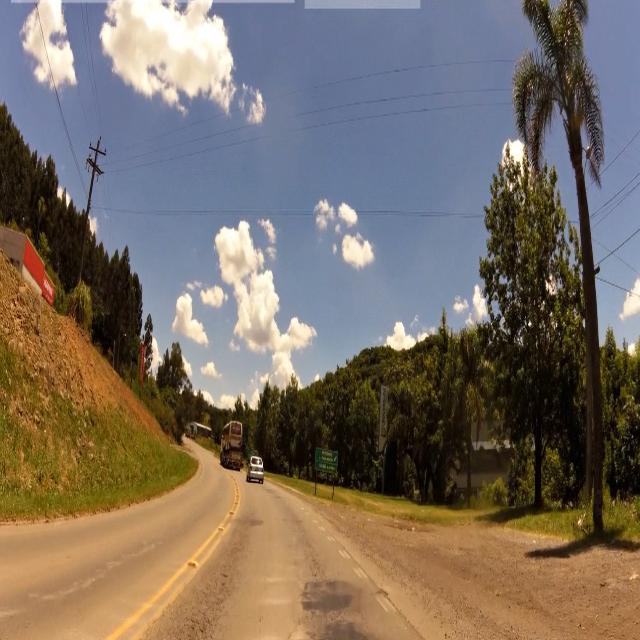I-4: (316, 447, 340, 478)
